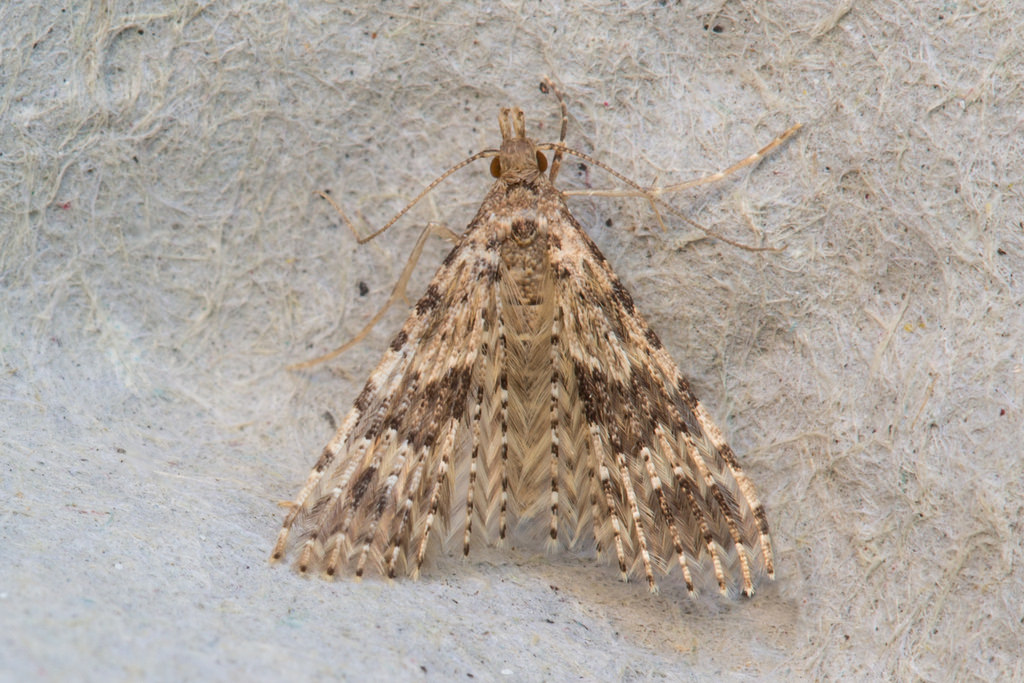Alucitidae: (250, 82, 812, 611)
moth: (248, 80, 810, 609)
